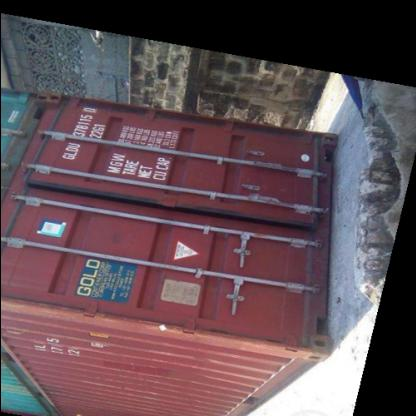Damage: (1, 291, 224, 345), (304, 176, 333, 340)
